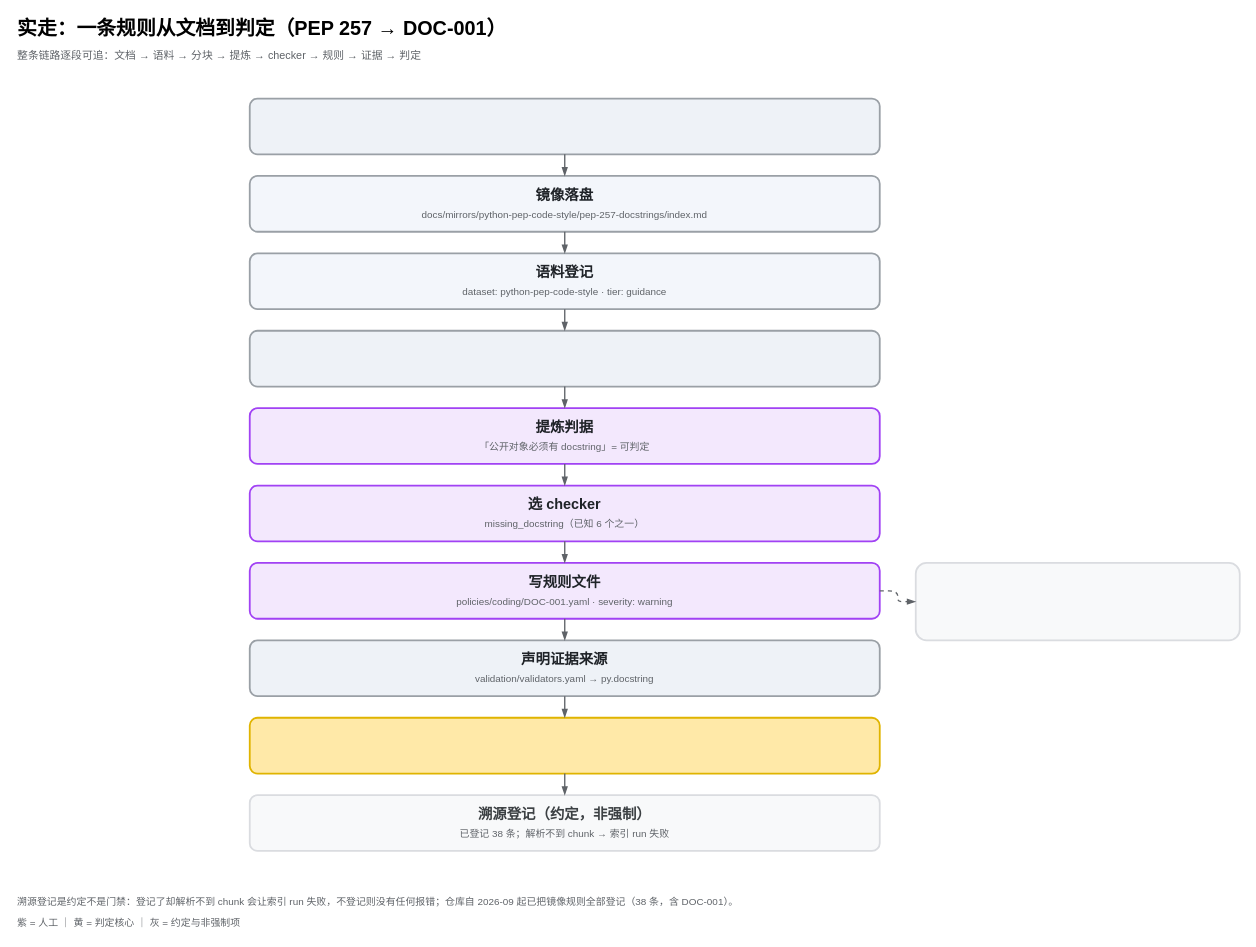
Image size: 1256x947. Some labels were removed from this diagram. Each missing label, with the centre of its shape:
"上游官方文档 PEP 257（public domain）" goes at (x=564, y=126).
"分块与索引 chunk：heading_path + text_hash" goes at (x=564, y=358).
"判定 证据 rule_id == DOC-001 → allow_with_warnings" goes at (x=564, y=745).
"已知落差（如实写） source.path 不校验文件是否存在；rule_sources 登记非强制" goes at (x=1077, y=601).
